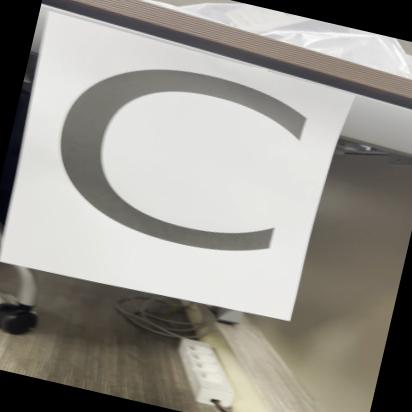seat: (7, 14, 342, 320)
